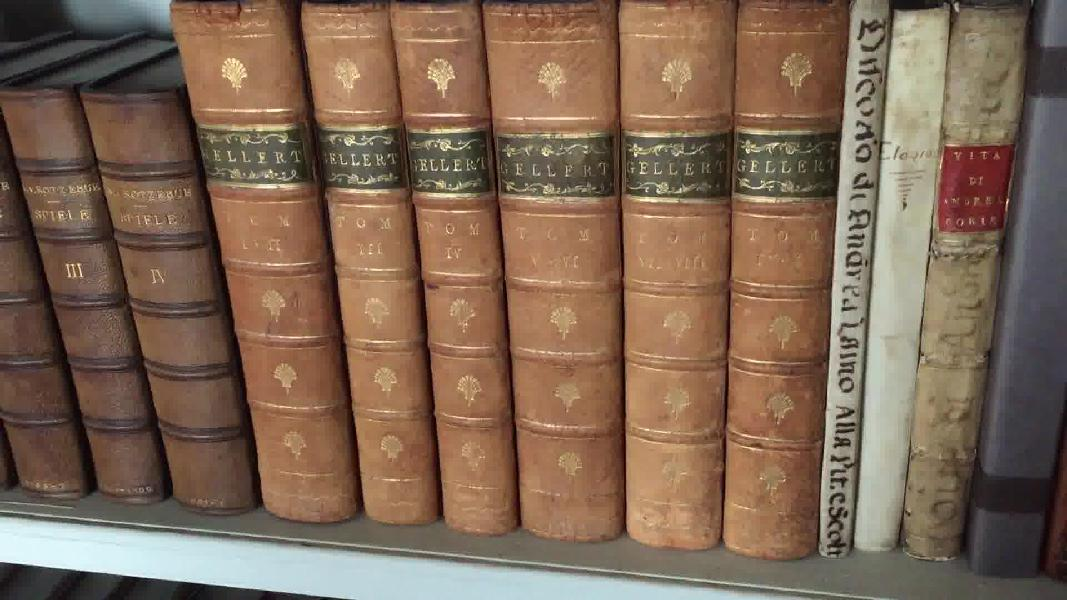Aa6-18_23: (163, 4, 856, 569)
Aa6-24: (813, 1, 889, 567)
Aa6-25: (856, 13, 939, 555)
Aa6-26: (902, 1, 1002, 562)
